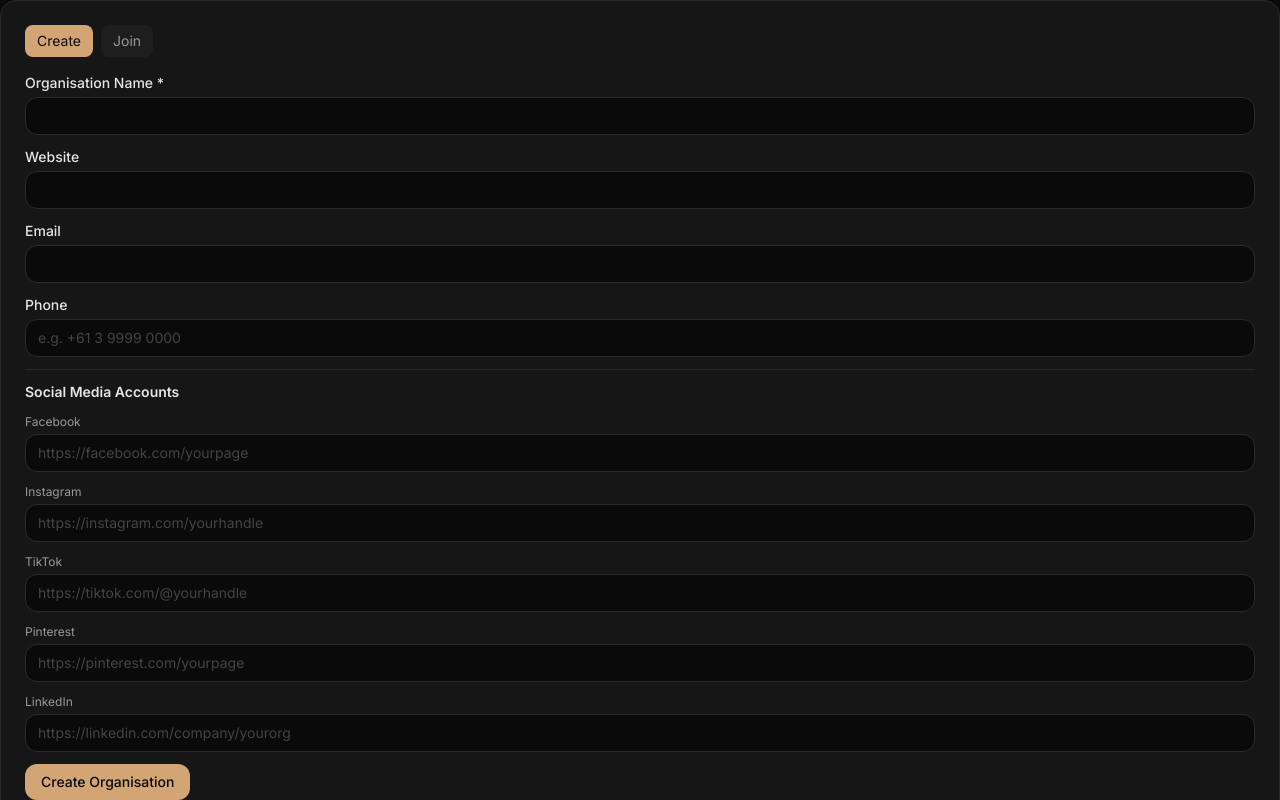
Test: OrgTab › no-org state › handleJoinOrg — shows error message on bad join key
This screenshot has width=1280, height=800.
Click the tab "Join".
click(127, 41)  # box [101, 25, 153, 57]
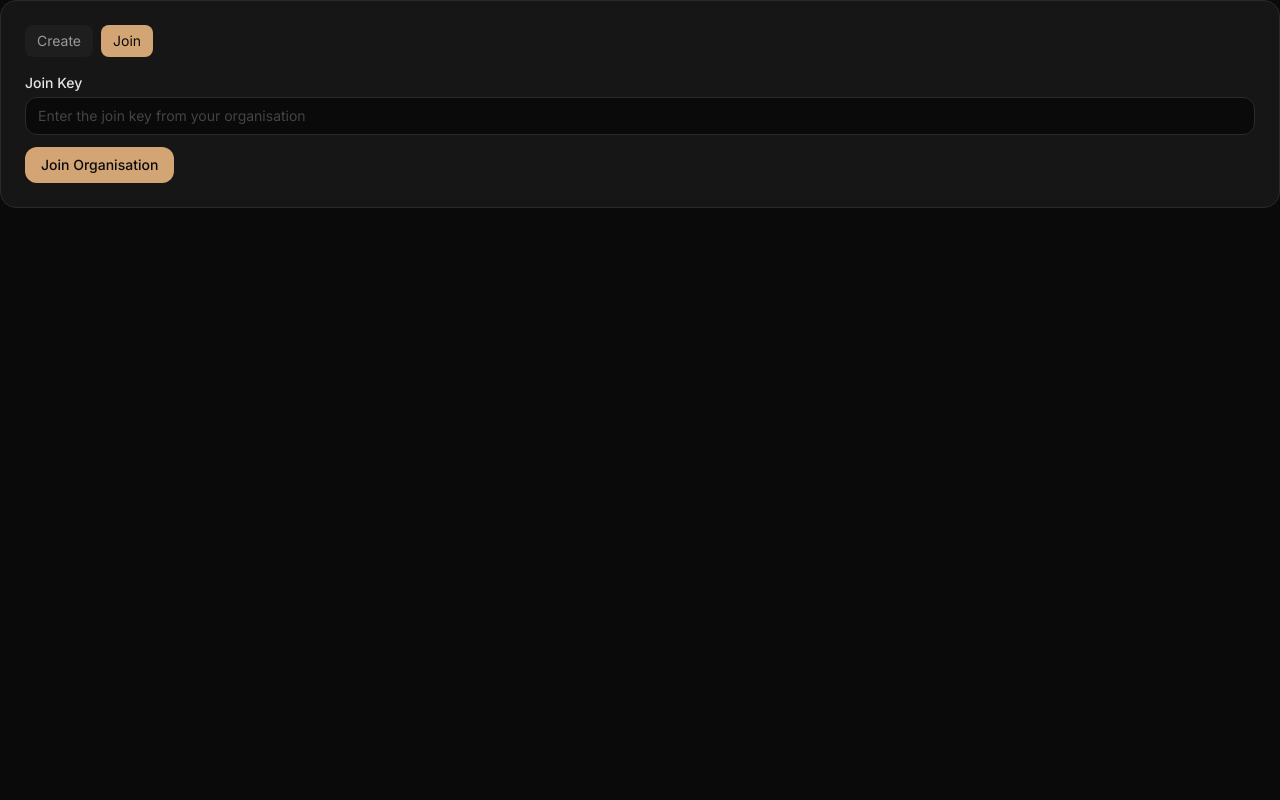
Type "BAD-KEY" into the field with placeholder "Enter the join key from your organisation".
click(640, 116); type("BAD-KEY")  # box [25, 97, 1255, 135]
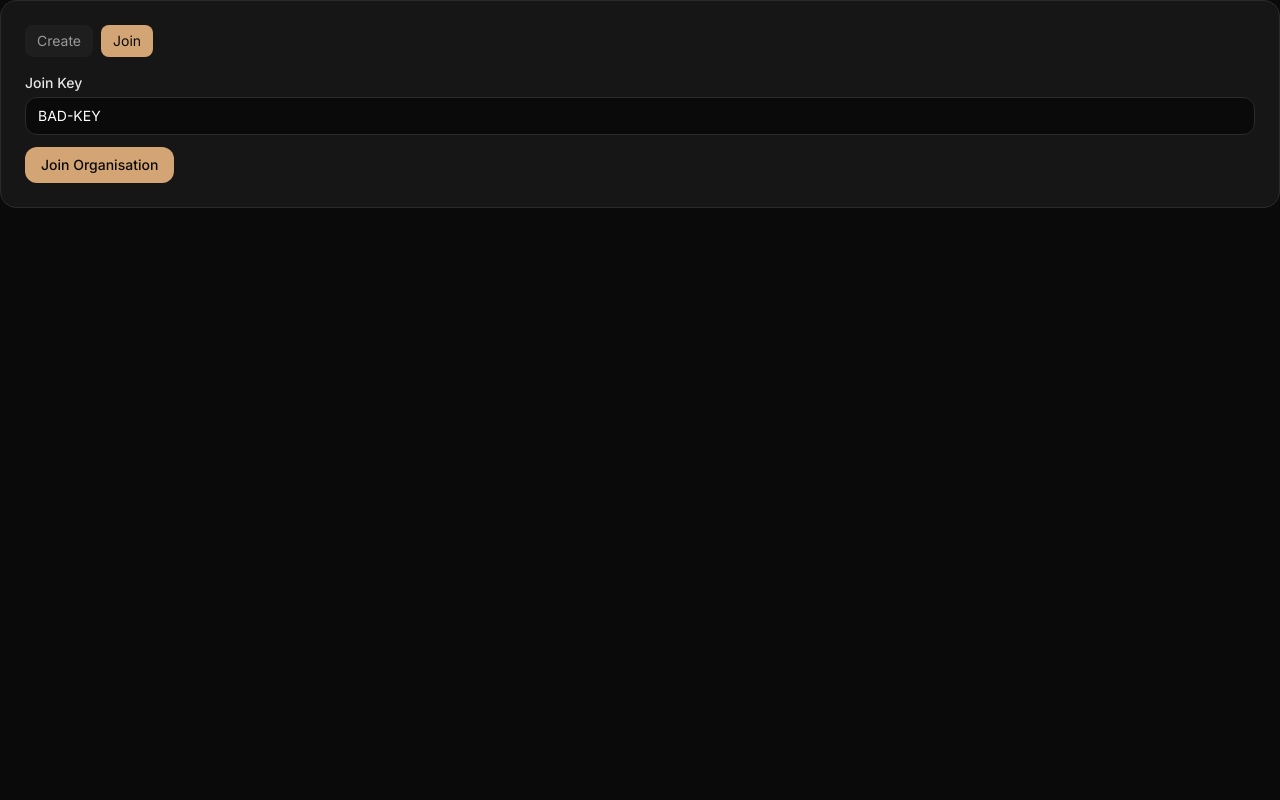
Submit the panel with placeholder "enter the join key from your organisation", box [25, 73, 1255, 183]
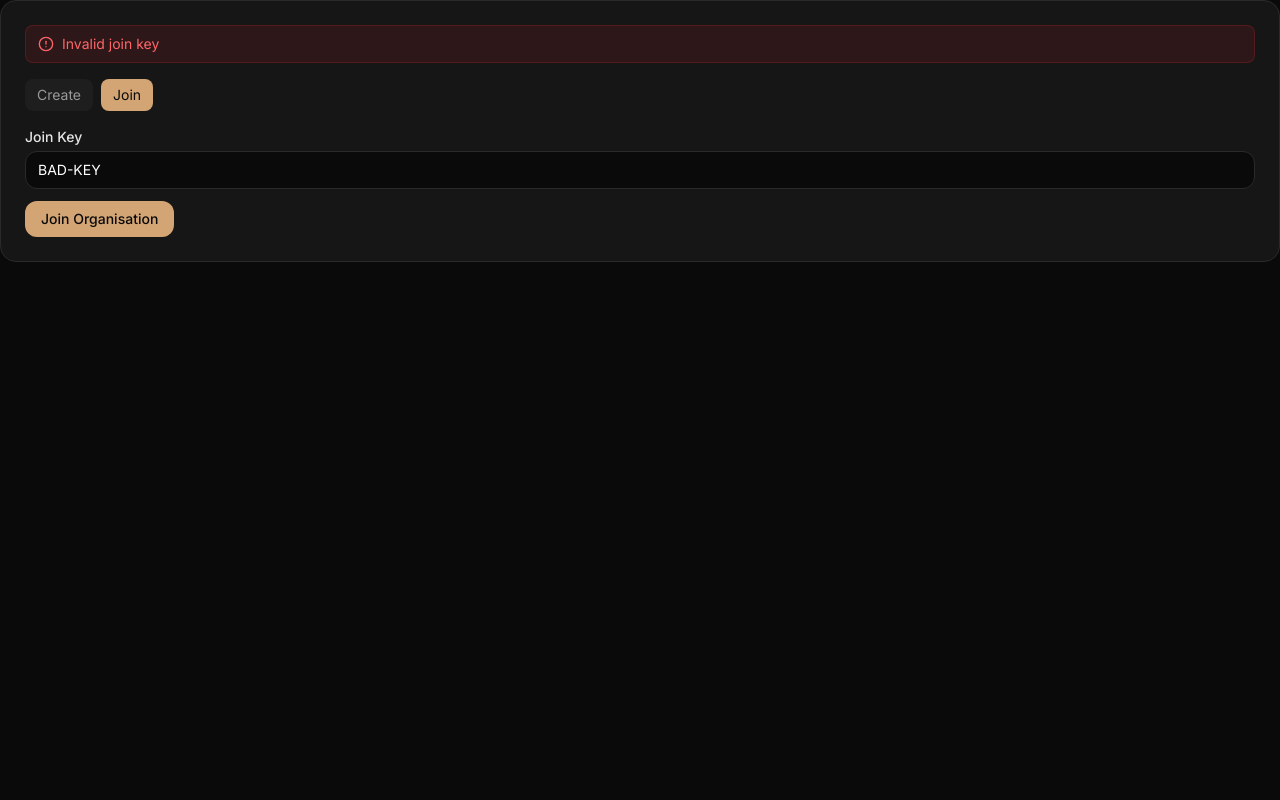
Check: the text "Invalid join key" is shown, box [25, 25, 1255, 63]
